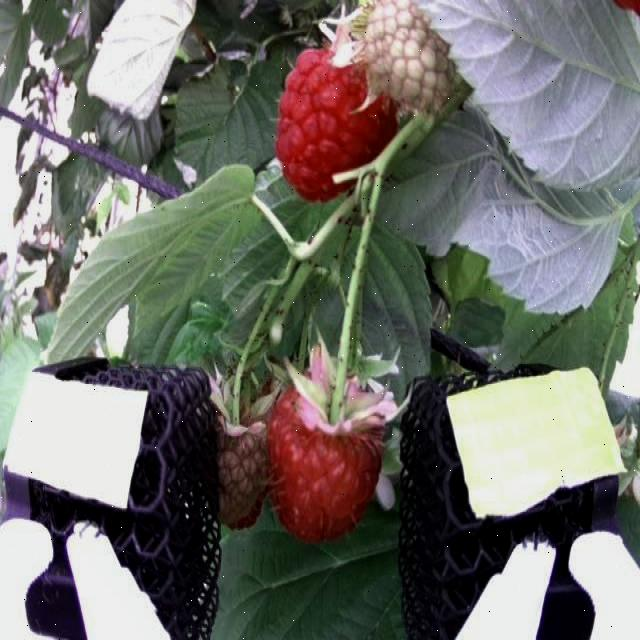Riped berries: (275, 35, 399, 203), (273, 360, 385, 540)
